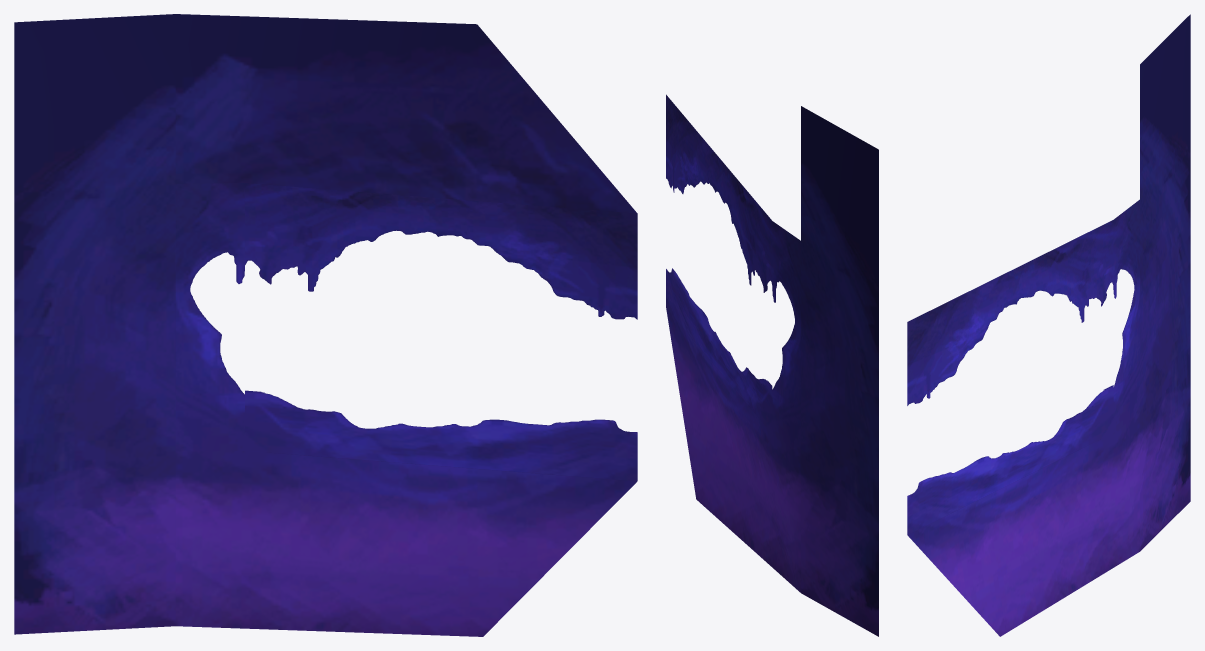
The model's file is SWORDLIGHT20_PS-AREA05-RANGE04_03.fbx.
3 renders of one model, left to right at view 1: azimuth 30°, elevation 25°; view 2: azimuth 150°, elevation 25°; view 3: azimuth 270°, elevation 25°, orthographic. The views are drawn at different scales.
Parts seen in each view (by area): view 1: SWORDLIGHT20_PS-AREA05-RANGE04_03; view 2: SWORDLIGHT20_PS-AREA05-RANGE04_03; view 3: SWORDLIGHT20_PS-AREA05-RANGE04_03.
Boxes of the visible parts, x1,y1,x2,y2 form: SWORDLIGHT20_PS-AREA05-RANGE04_03: (14,14,637,636); SWORDLIGHT20_PS-AREA05-RANGE04_03: (666,94,878,636); SWORDLIGHT20_PS-AREA05-RANGE04_03: (907,14,1190,636).
Size of the model in its own units: 253449 by 333000 by 175460.
Materials: 6 (6 with a texture image).
